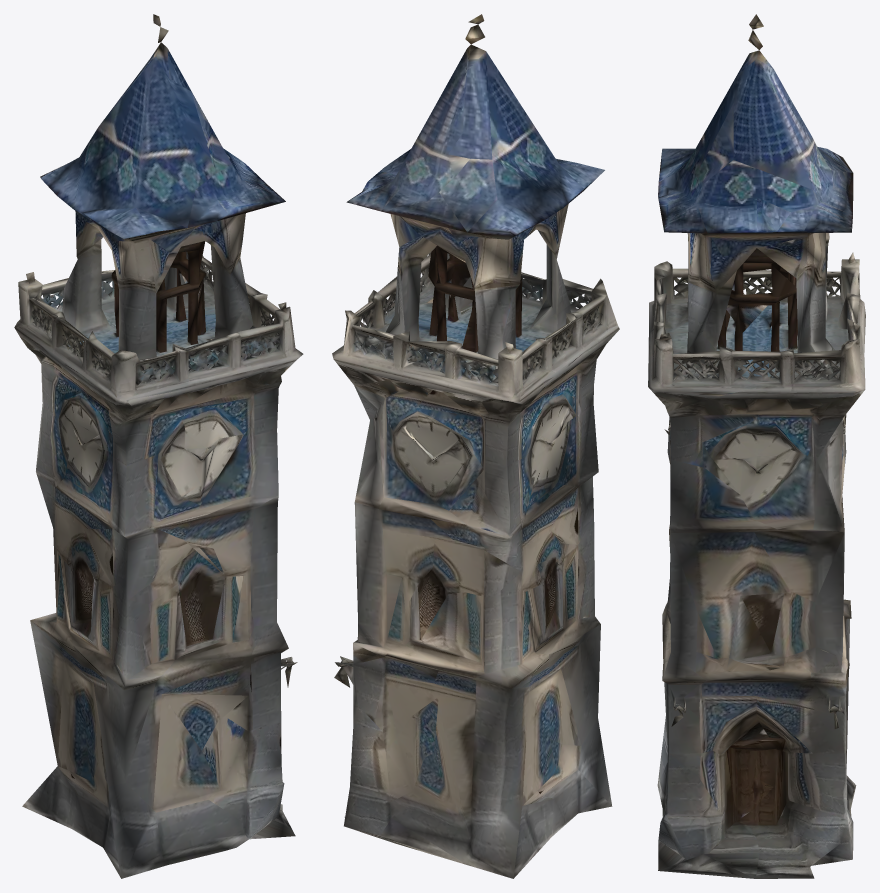
File: clock_tower.glb
3 renders of one model, left to right at view 1: azimuth 30°, elevation 25°; view 2: azimuth 150°, elevation 25°; view 3: azimuth 270°, elevation 25°, orthographic.
Visible parts, largest first — view 1: tripo_node_e6e916e4-48e7-4c0b-b10f-107989bc6dfc; view 2: tripo_node_e6e916e4-48e7-4c0b-b10f-107989bc6dfc; view 3: tripo_node_e6e916e4-48e7-4c0b-b10f-107989bc6dfc.
Part boxes in pixels (box(x1,y1,x2,y2)): tripo_node_e6e916e4-48e7-4c0b-b10f-107989bc6dfc: box(14, 14, 303, 878); tripo_node_e6e916e4-48e7-4c0b-b10f-107989bc6dfc: box(332, 14, 619, 878); tripo_node_e6e916e4-48e7-4c0b-b10f-107989bc6dfc: box(648, 14, 865, 878).
Size of the model in its own units: 0.2456 by 0.9576 by 0.2331.
1 material, 1 textured.
